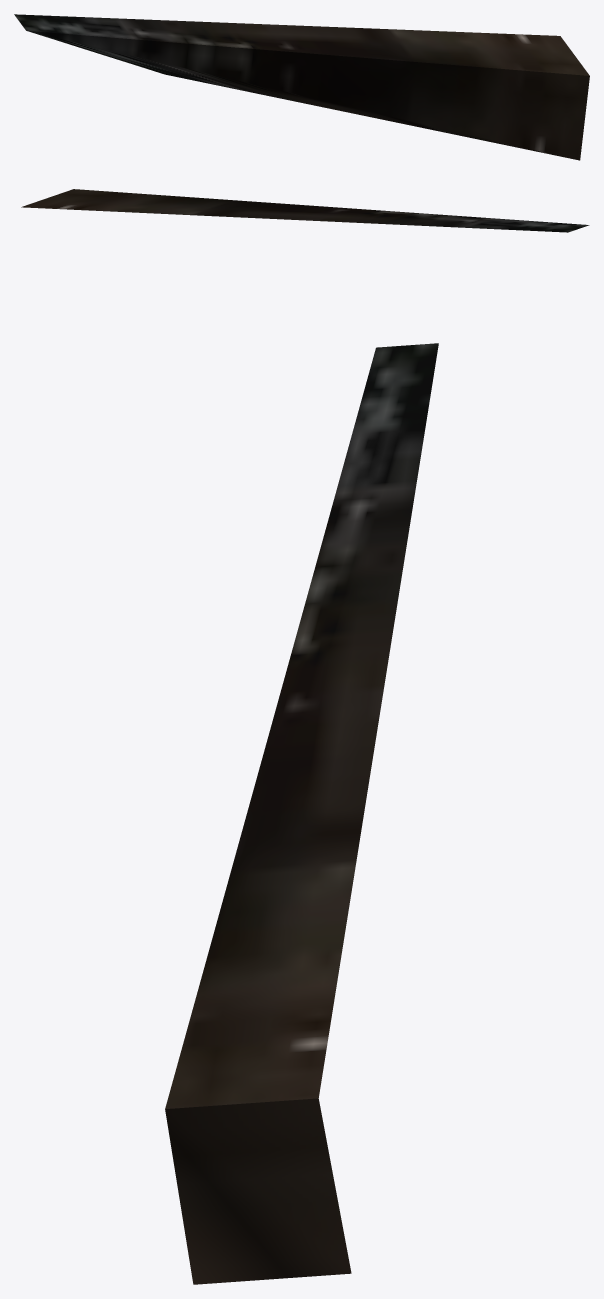
The picture shows the model from 3 angles, top to bottom: view 1: azimuth 30°, elevation 25°; view 2: azimuth 150°, elevation 25°; view 3: azimuth 270°, elevation 25°; orthographic projection. The views are drawn at different scales.
Parts seen in each view (by area): view 1: model_object70; view 2: model_object70; view 3: model_object70.
Part boxes in pixels (x1,y1,x2,y2): model_object70: (14,14,589,160); model_object70: (21,189,589,232); model_object70: (165,343,438,1284).
Size of the model in its own units: 0.7673 by 0.3165 by 0.175.
Materials: 1 (1 with a texture image).
